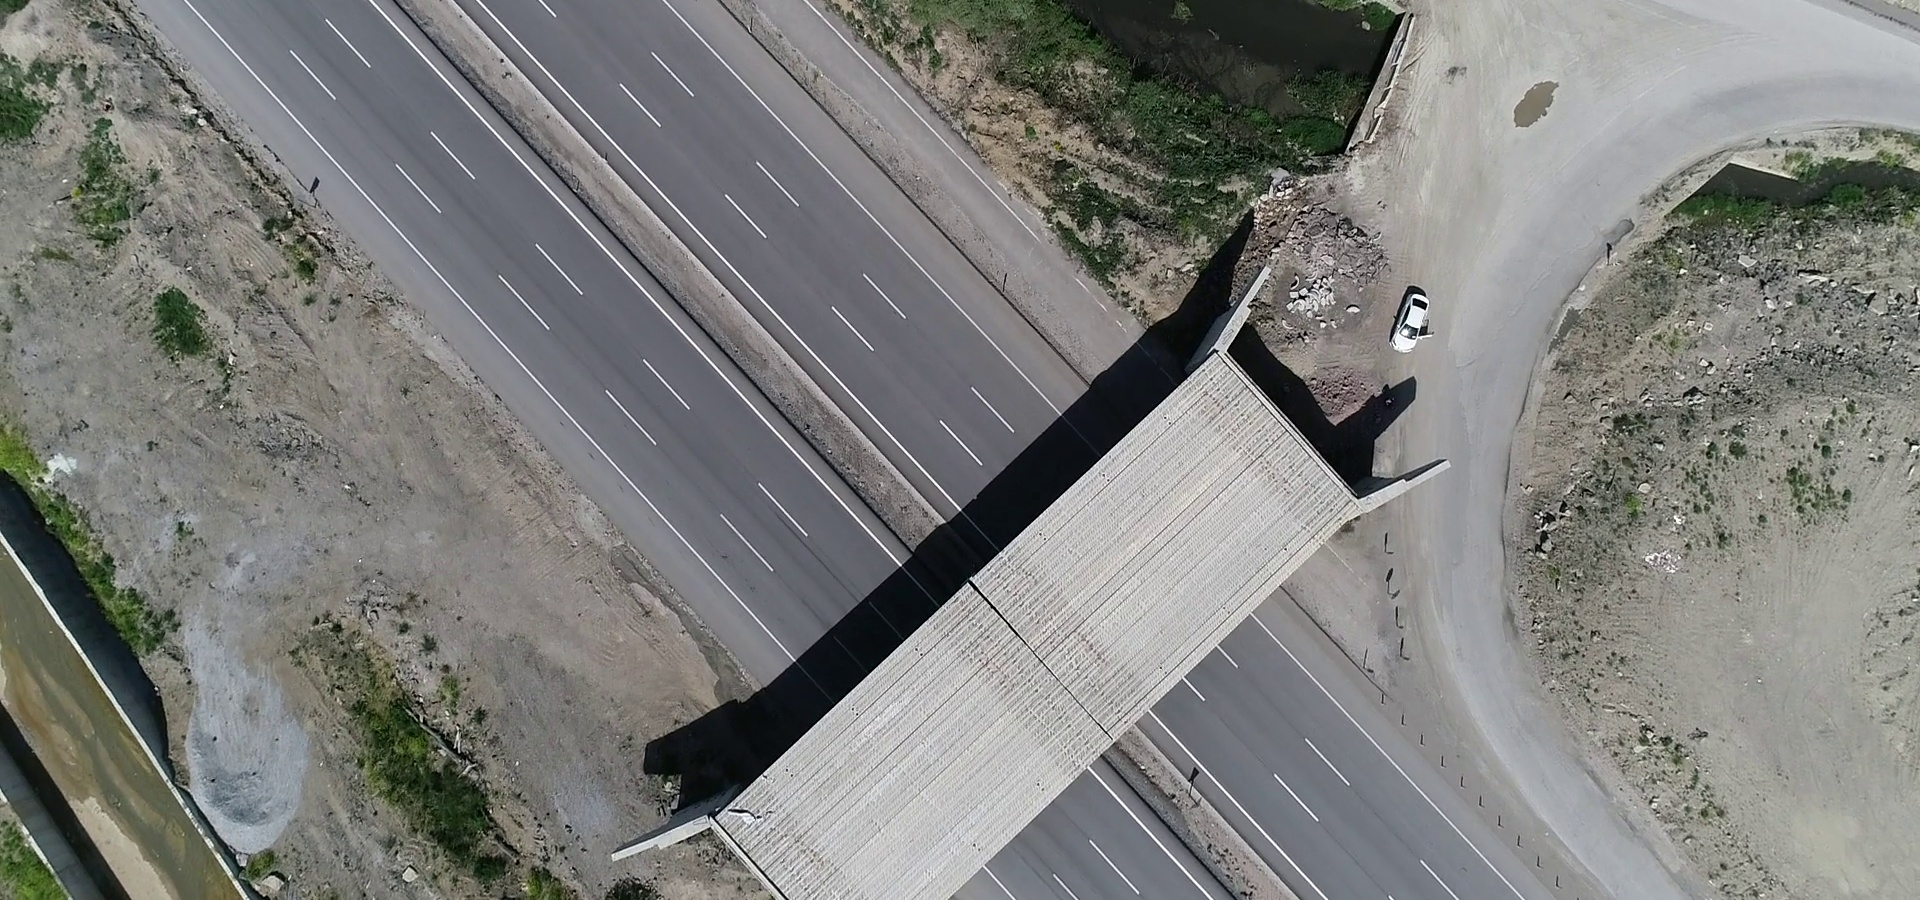arac: (1387, 280, 1442, 367)
